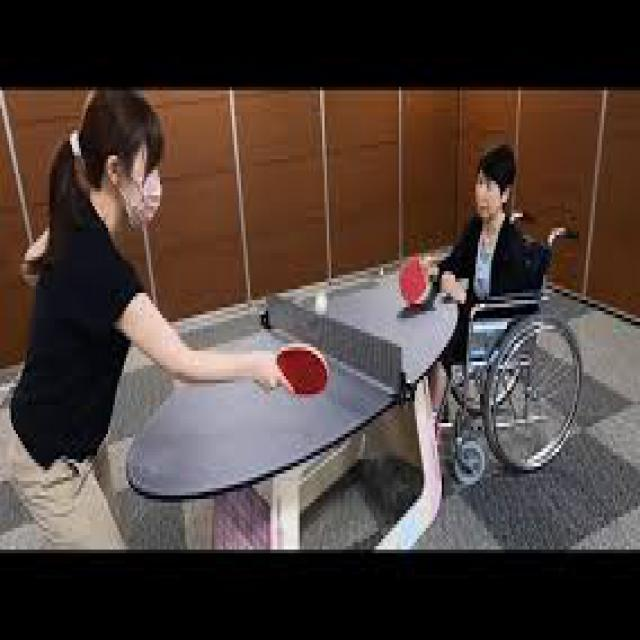wheelchairs: (406, 202, 596, 484)
